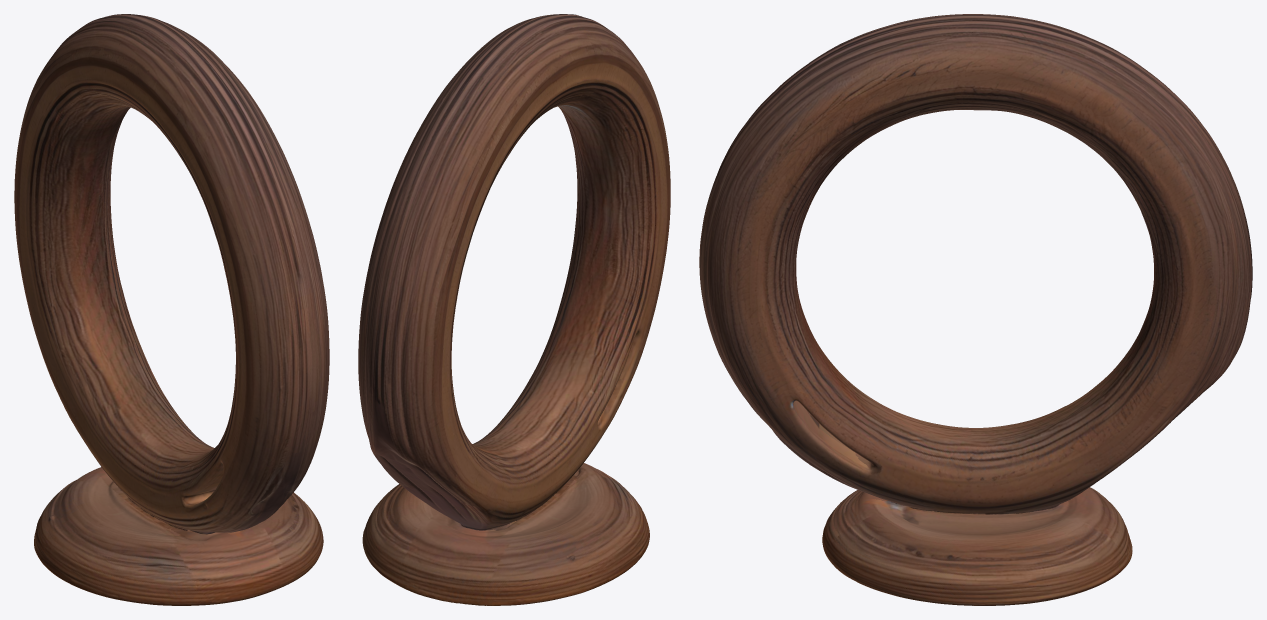
The model's file is cring.glb.
3 views of the same model, side by side, from view 1: azimuth 30°, elevation 25°; view 2: azimuth 150°, elevation 25°; view 3: azimuth 270°, elevation 25° (orthographic). The views are drawn at different scales.
Visible parts, largest first — view 1: tripo_node_a62322db-bbce-4e51-a7d1-f8be424071a9; view 2: tripo_node_a62322db-bbce-4e51-a7d1-f8be424071a9; view 3: tripo_node_a62322db-bbce-4e51-a7d1-f8be424071a9.
Boxes of the visible parts, x1=… form: tripo_node_a62322db-bbce-4e51-a7d1-f8be424071a9: x1=14, y1=14, x2=329, y2=605; tripo_node_a62322db-bbce-4e51-a7d1-f8be424071a9: x1=358, y1=14, x2=670, y2=605; tripo_node_a62322db-bbce-4e51-a7d1-f8be424071a9: x1=699, y1=14, x2=1252, y2=605.
Size of the model in its own units: 0.498 by 1 by 0.9459.
1 material, 1 textured.
